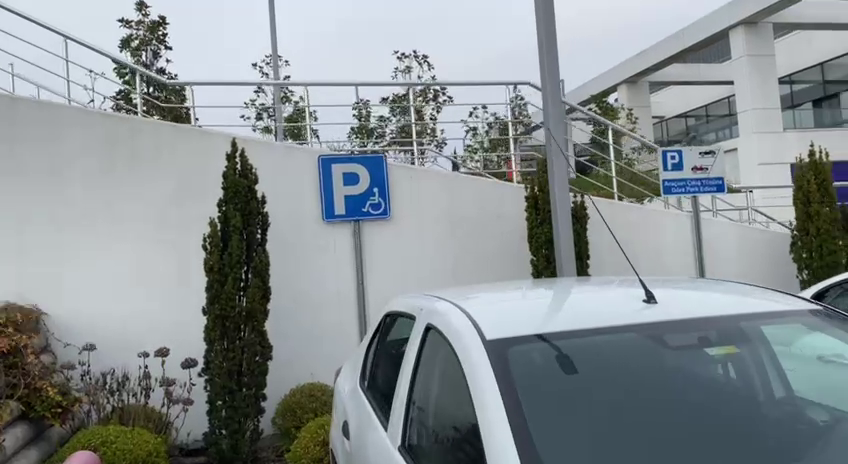parking: (315, 151, 392, 222), (660, 148, 687, 173)
